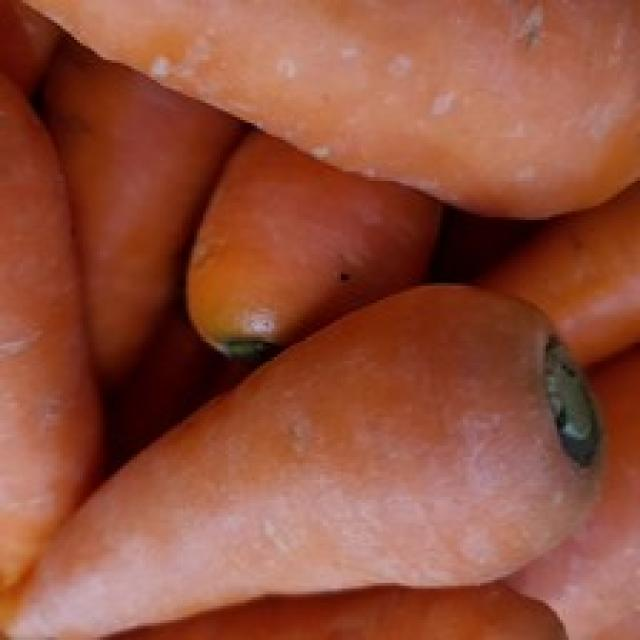Fresh_Carrot: (37, 265, 496, 640)
